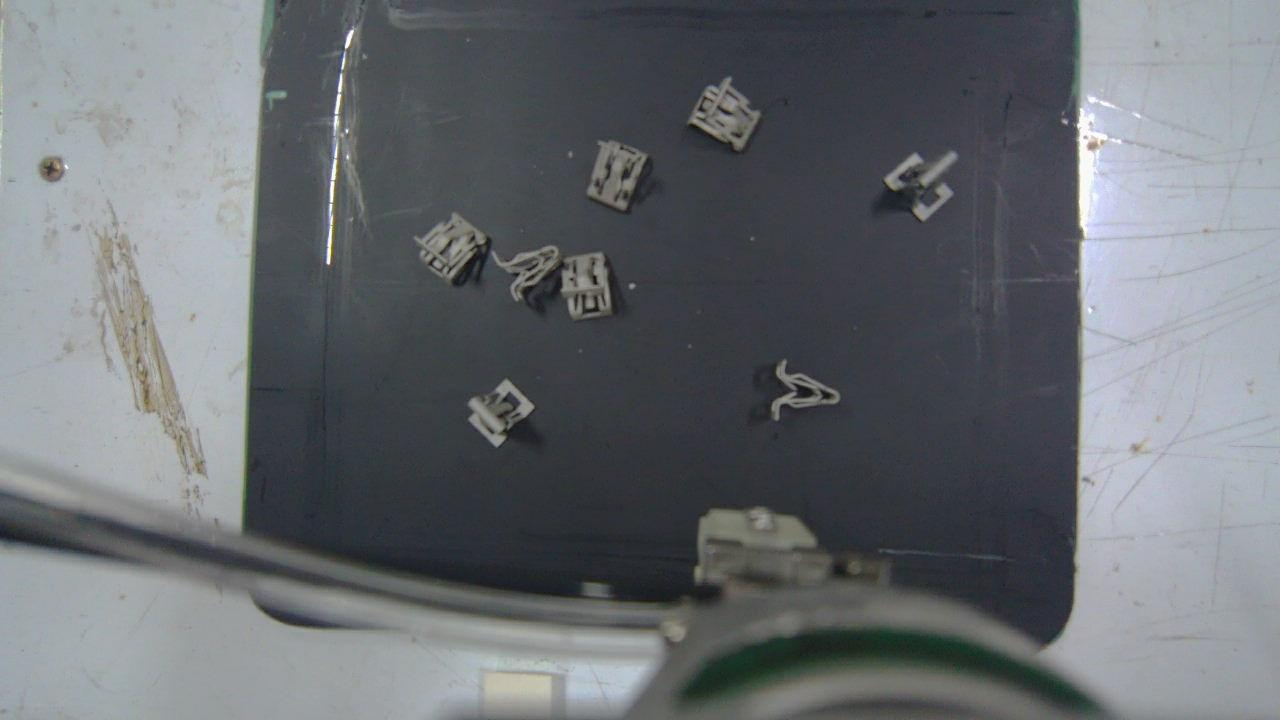ng: (683, 80, 762, 149), (416, 212, 483, 284), (467, 379, 534, 449), (769, 362, 841, 421), (586, 137, 645, 208), (493, 245, 556, 303), (564, 251, 613, 318)
pass: (885, 153, 956, 221)
